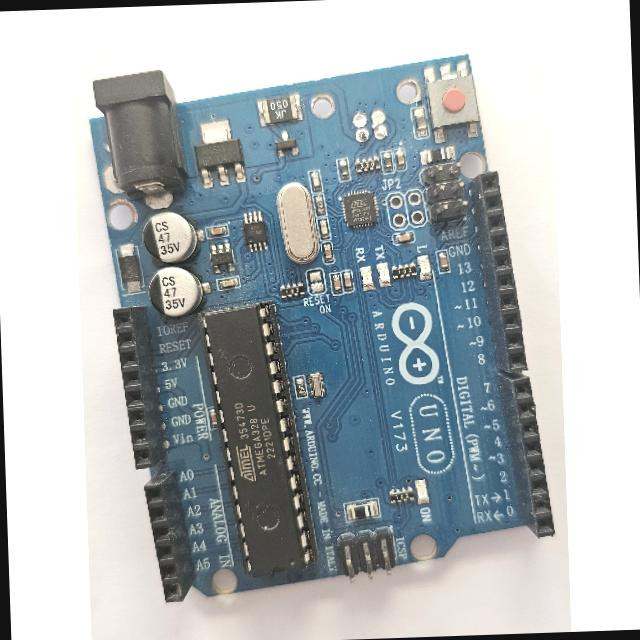missing_usb: (303, 65, 416, 161)
